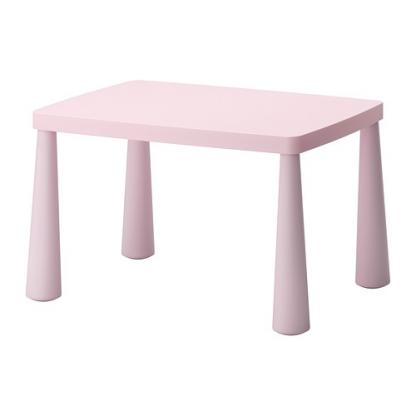Table: (23, 74, 394, 340)
